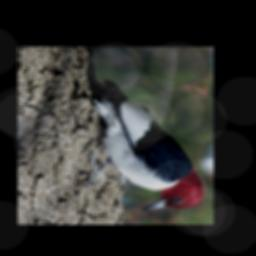Woodpecker: (73, 76, 206, 213)
